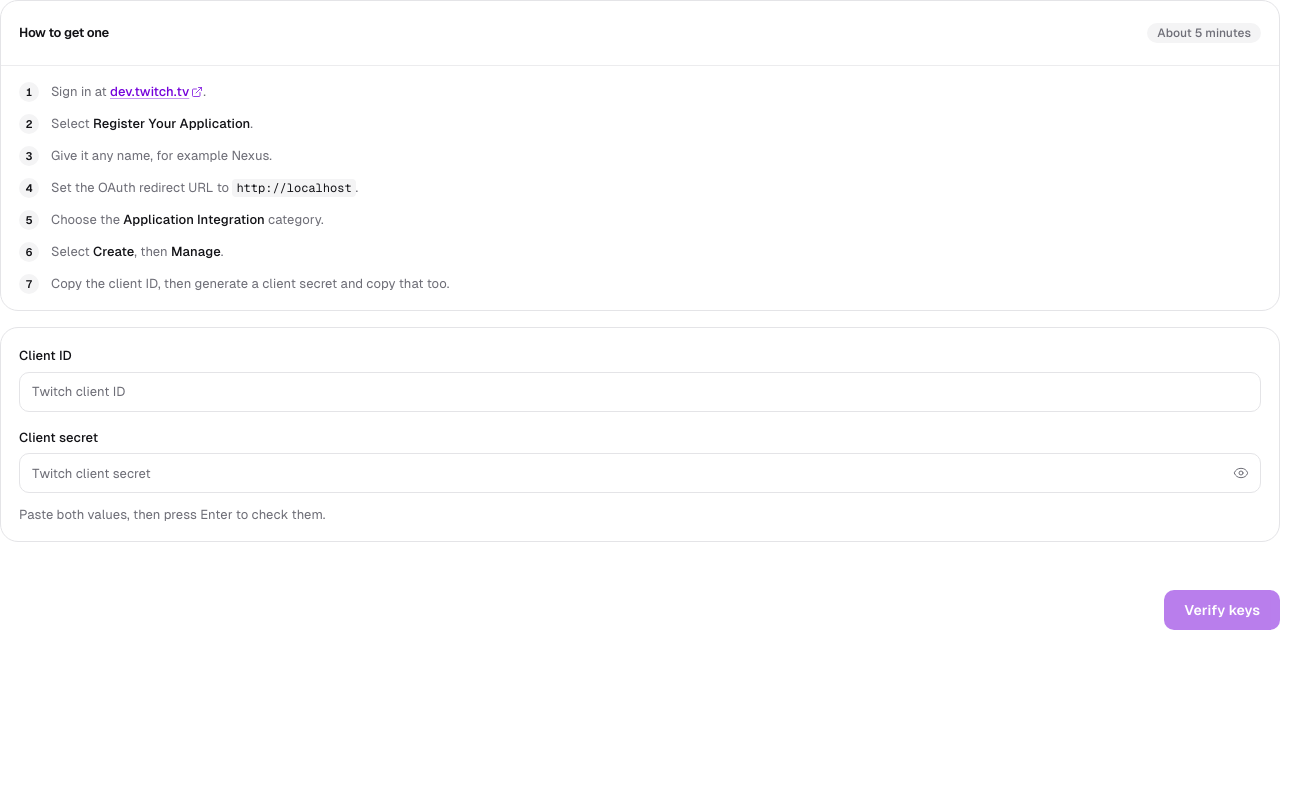
Story 9.3: IGDBStep › verifies keys on button click
In the field with test id "igdb-client-id-input": x=640, y=392 [19,372,1261,412], type "client-id"
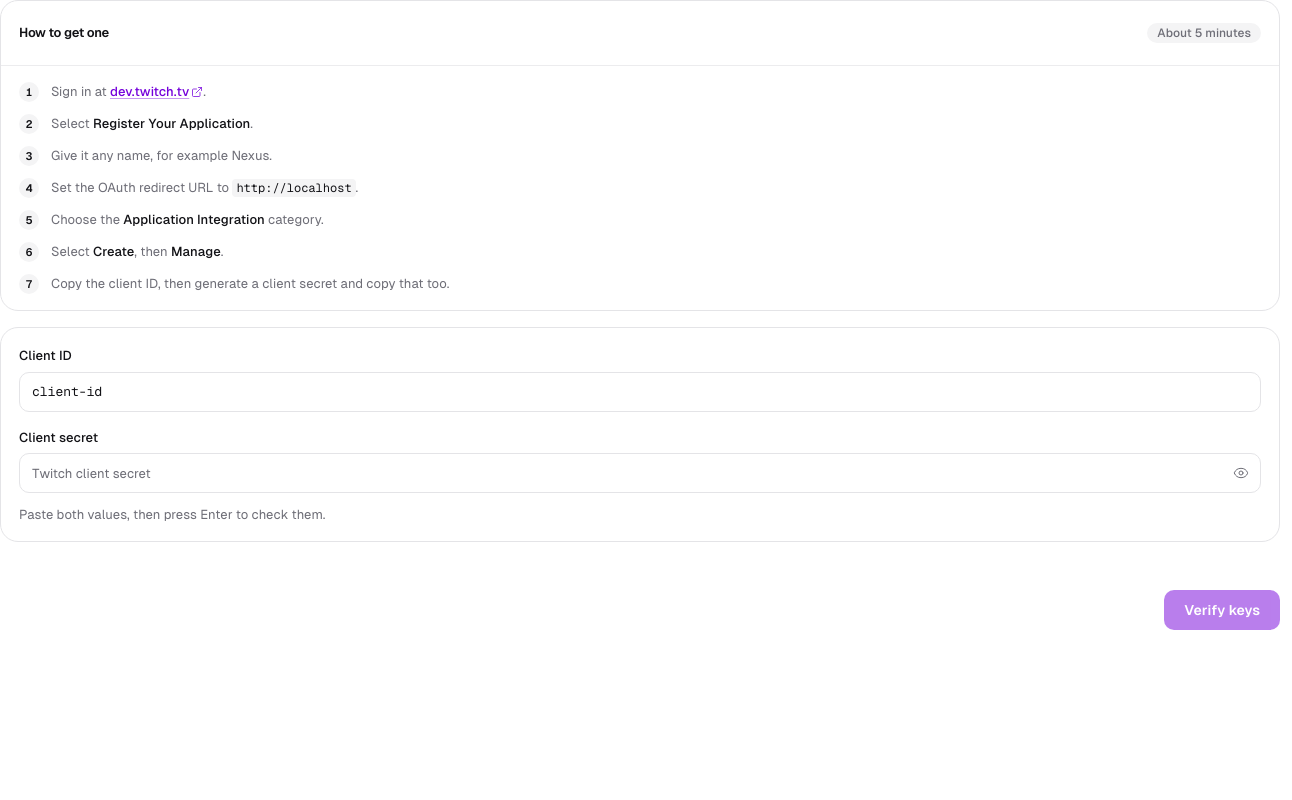
In the password field with test id "igdb-client-secret-input": x=640, y=473 [19,453,1261,493], type "client-secret"
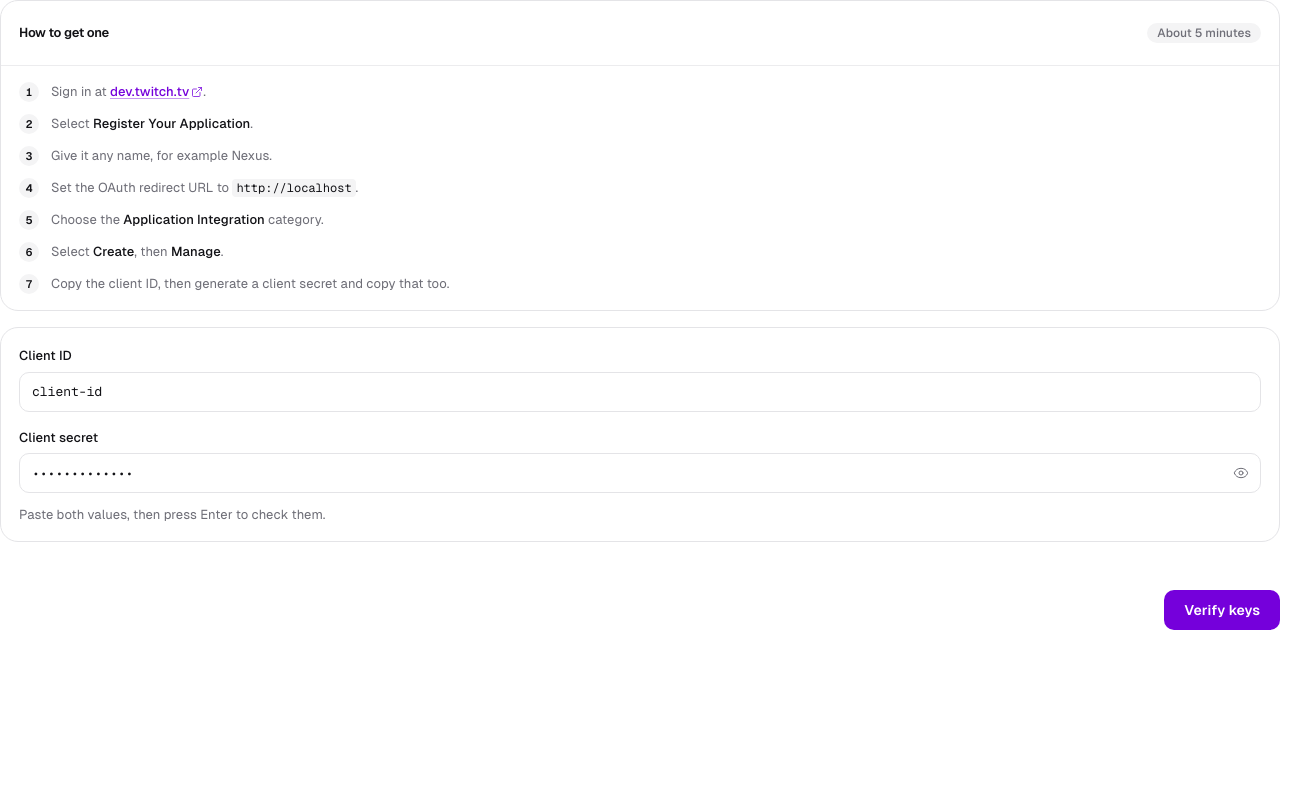
Click the button with test id "igdb-next": x=1222, y=610 [1164,590,1280,630]
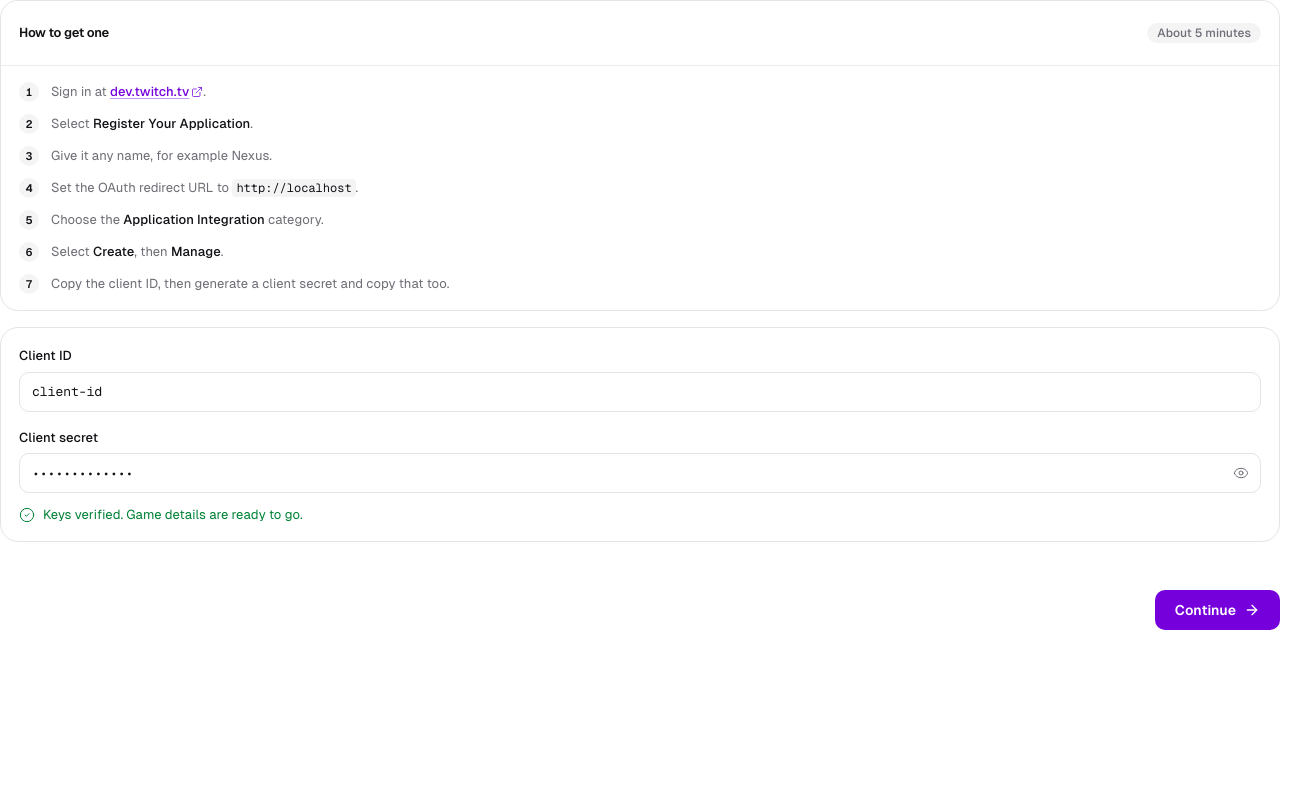
Now the message with test id "igdb-key-area-status" shows "Keys verified", box [43,507,303,522]
